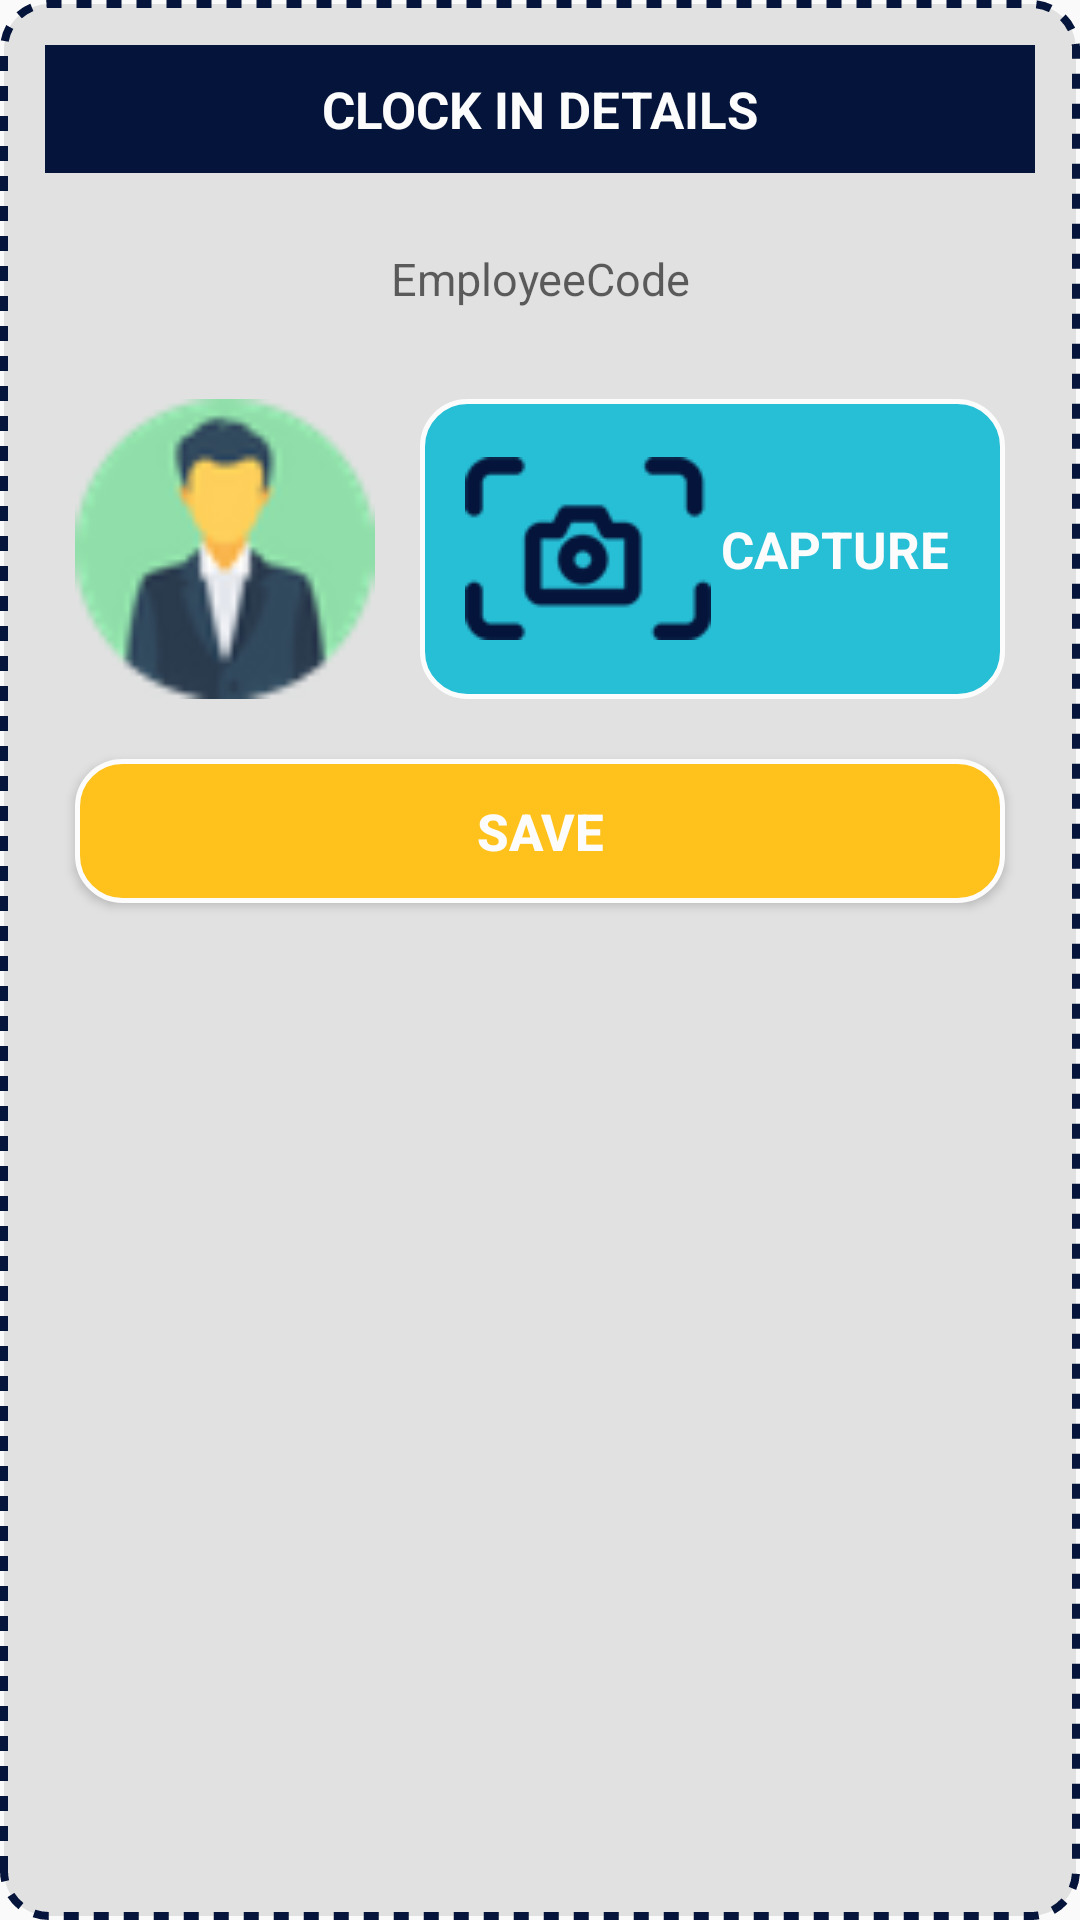

Icons on this 1080*1920 Android screen, each with its box as (left=x1, top=y1, right=x2, bottom=y2):
user: (left=75, top=399, right=375, bottom=699)
